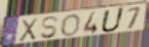4: (83, 10, 100, 36)
7: (126, 6, 143, 31)
O: (60, 13, 81, 38)
S: (40, 15, 61, 40)
U: (99, 7, 126, 34)
X: (18, 17, 39, 43)
